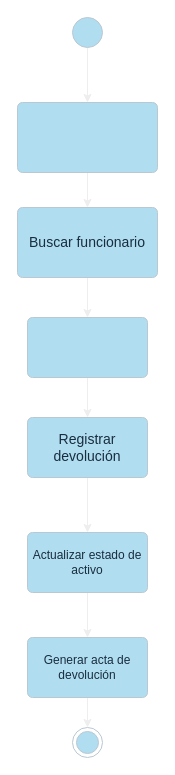
Some shapes in this 175 by 775 pixel diagram are drawn without their labels. The shapes that lost their labels are listed below. From the top down, each one's centre as x and y in pixels, then its label:
At point (87, 137): "Administrador inicia sesión".
At point (87, 347): "Buscar activo asignado".
